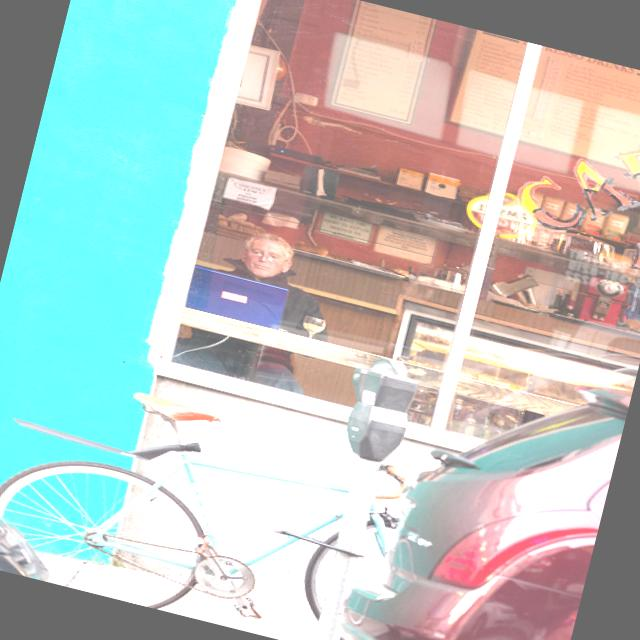Vehicle: (330, 339, 631, 640), (0, 488, 92, 589)
